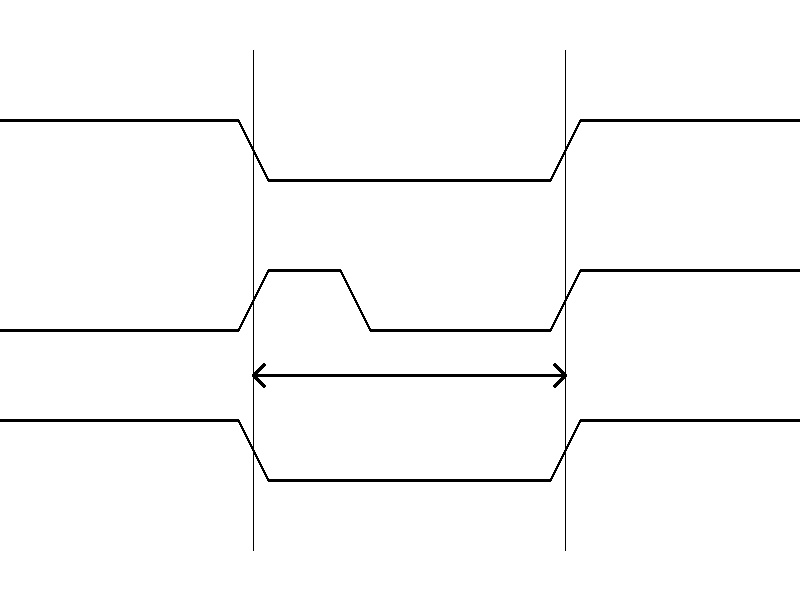double_arrow: (253, 360, 565, 390)
